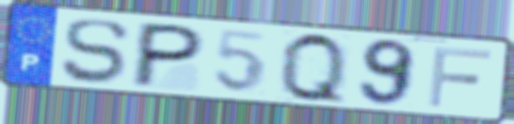5: (212, 27, 270, 96)
9: (358, 37, 421, 110)
F: (424, 44, 494, 109)
P: (127, 20, 209, 90)
Q: (277, 29, 348, 108)
S: (59, 18, 132, 86)
